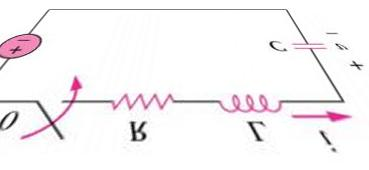inductor: (204, 84, 297, 121)
